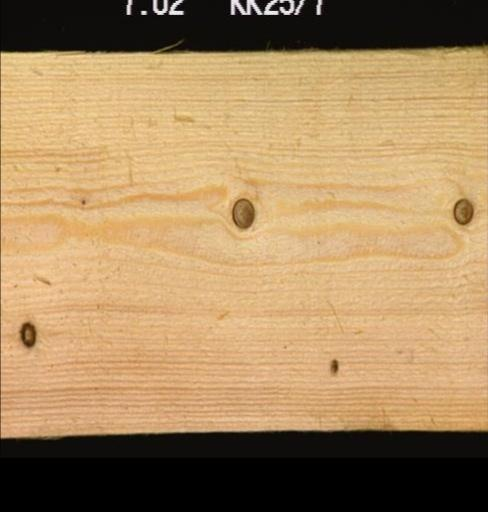dry_knot: (228, 194, 255, 230), (449, 193, 474, 225), (15, 318, 38, 348)
small_knot: (324, 354, 340, 374)
